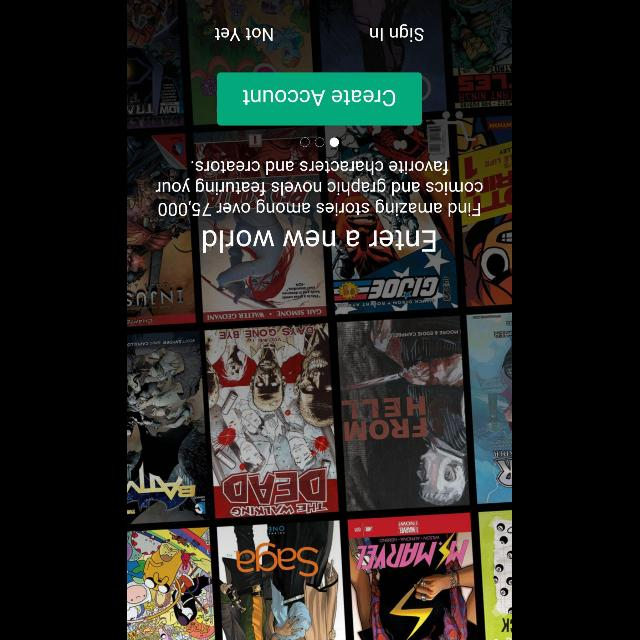backgroundimage: (128, 1, 512, 640)
pageindicator: (301, 136, 341, 148)
text: (156, 160, 484, 217), (204, 230, 436, 252), (371, 24, 425, 42), (216, 27, 274, 41)
textbutton: (218, 72, 422, 126)
